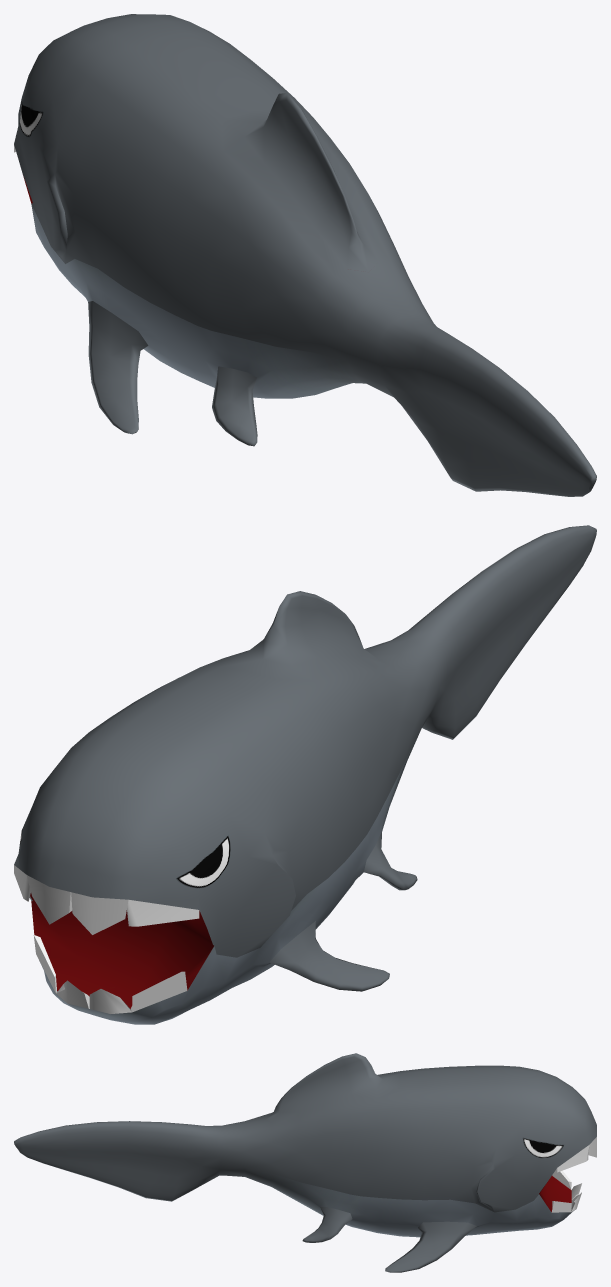
The model's file is dankuru2 1.fbx.
3 renders of one model, top to bottom at view 1: azimuth 30°, elevation 25°; view 2: azimuth 150°, elevation 25°; view 3: azimuth 270°, elevation 25°, orthographic. The views are drawn at different scales.
Parts seen in each view (by area): view 1: pCube1; view 2: pCube1; view 3: pCube1.
Part boxes in pixels (left/top/right/bottom): pCube1: left=14, top=14, right=596, bottom=496; pCube1: left=14, top=525, right=596, bottom=1024; pCube1: left=14, top=1053, right=596, bottom=1272.
Bounding box in the file's own units: 5.37 × 6.34 × 18.22.
